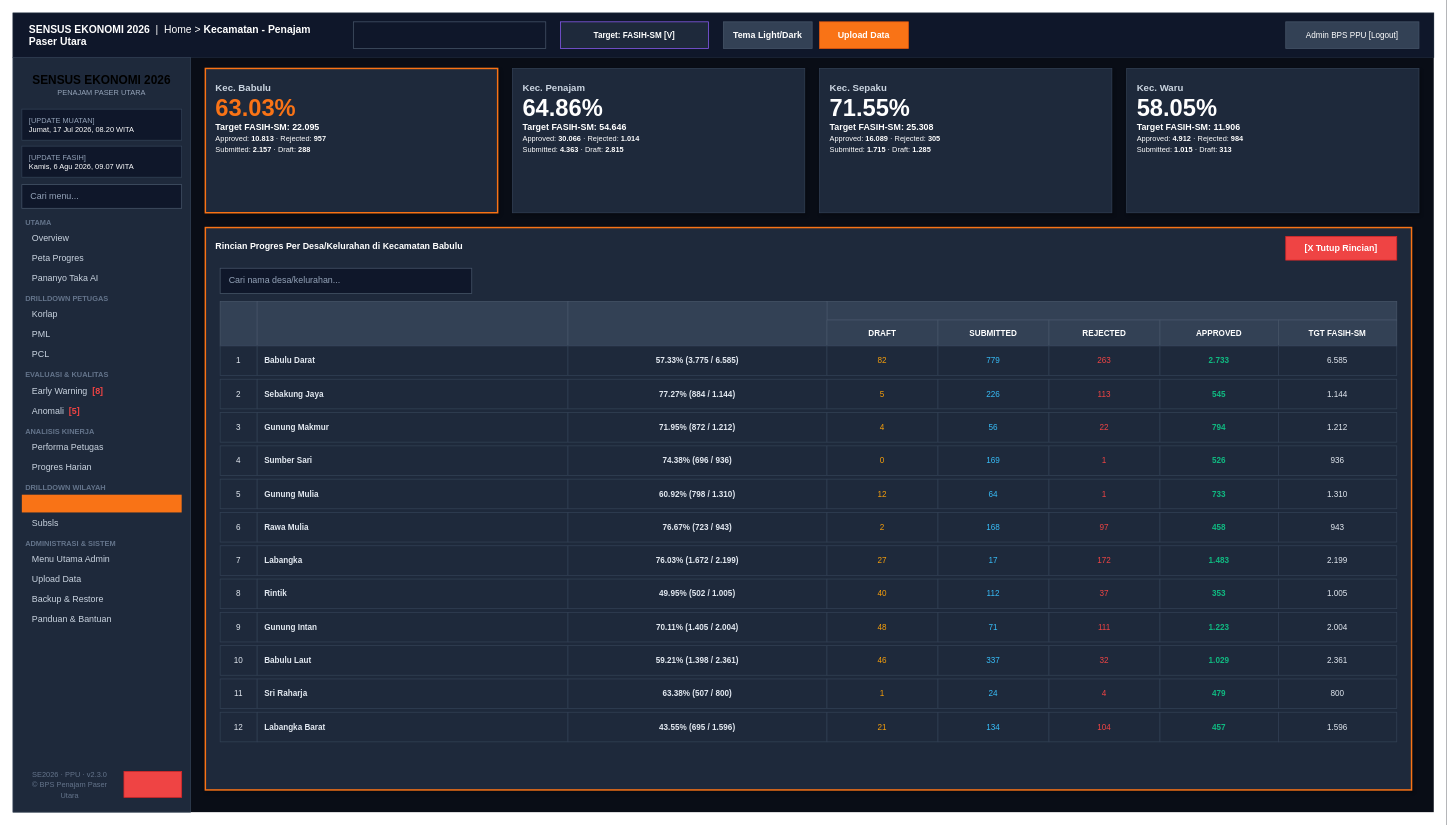
Some shapes in this 1447 by 825 pixel diagram are drawn without their labels. Each missing label, with the centre of its shape:
"[Ctrl K] Cari menu / data..." goes at pixel 449 34.
"ASSIGNMENT FASIH" goes at pixel 1111 310.
"FASIH %" goes at pixel 697 323.
"Kecamatan" goes at pixel 101 503.
"Logout" goes at pixel 152 784.
"NAMA DESA/KELURAHAN" goes at pixel 412 323.
"NO" goes at pixel 238 323.
